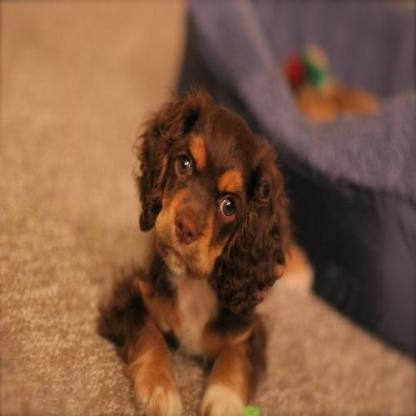cocker_spaniel: (93, 83, 312, 413)
